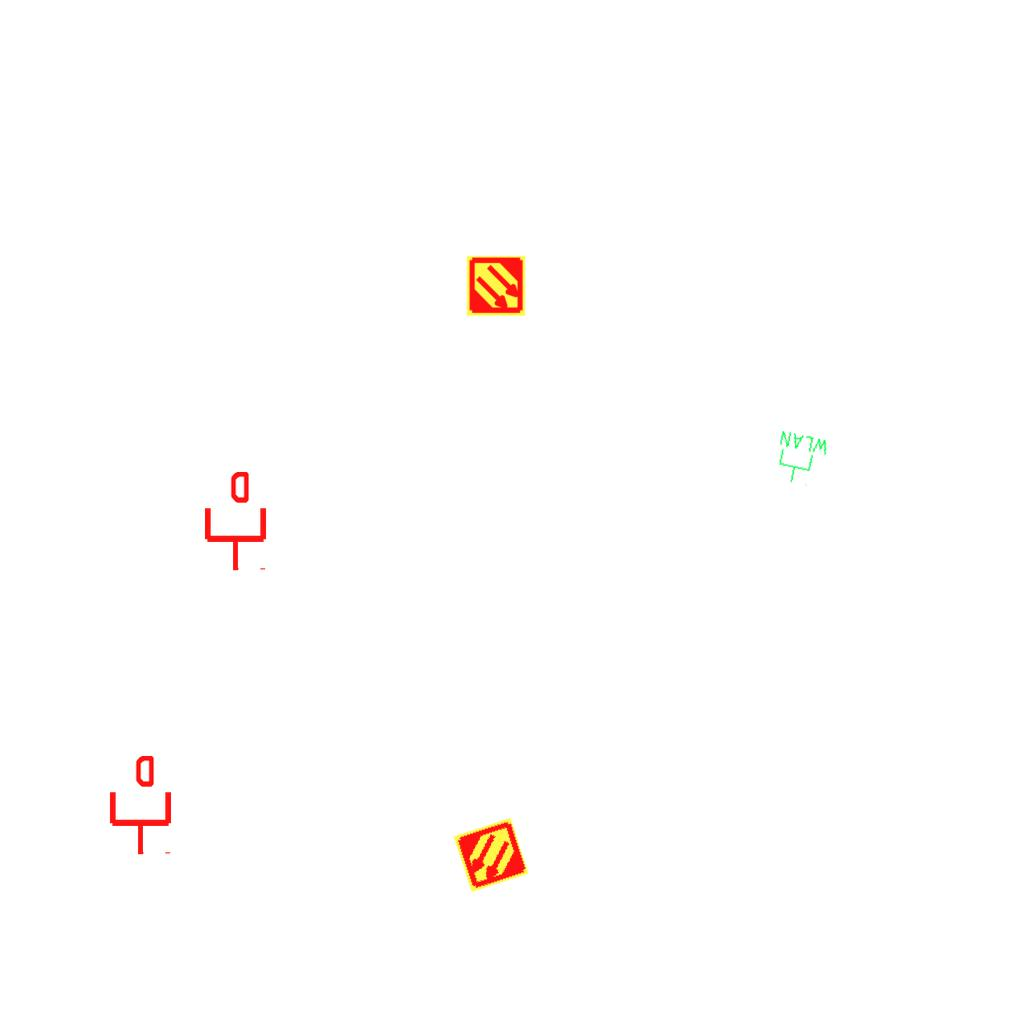ASR_Ansaugrauchmelder: (451, 815, 531, 895), (465, 255, 527, 317)
Datenanschluss_einfach: (201, 472, 270, 572), (106, 756, 175, 856)
WLAN: (770, 428, 832, 490)
